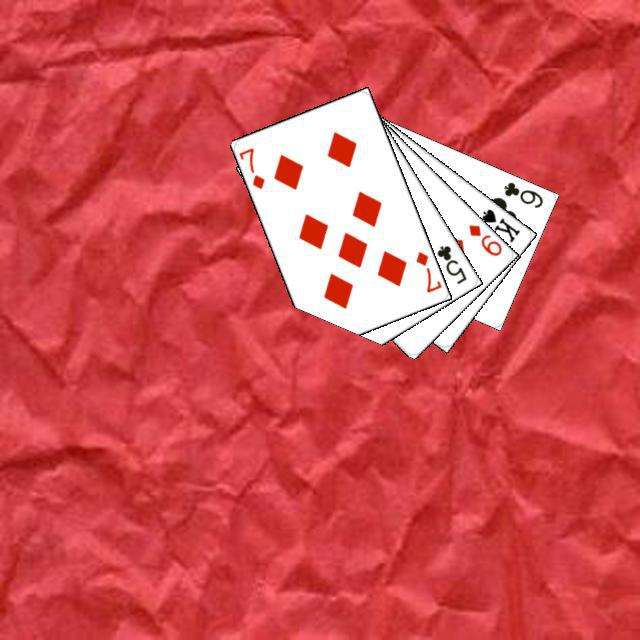5c: (432, 240, 468, 286)
6c: (499, 177, 545, 210)
7d: (411, 246, 442, 294), (235, 143, 266, 191)
9d: (463, 219, 504, 258)
Ks: (476, 204, 522, 244)
